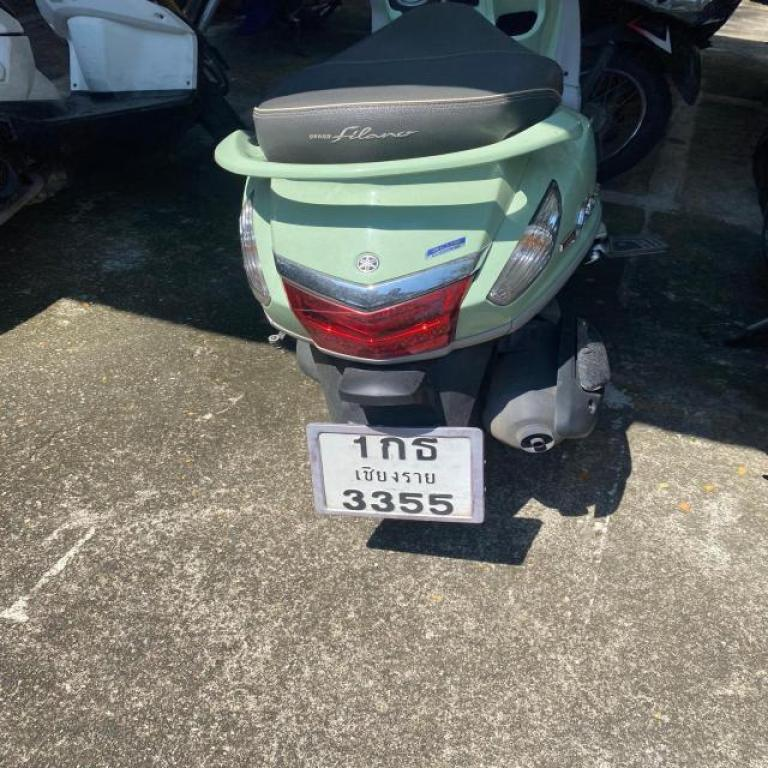license plate: (300, 417, 488, 529)
